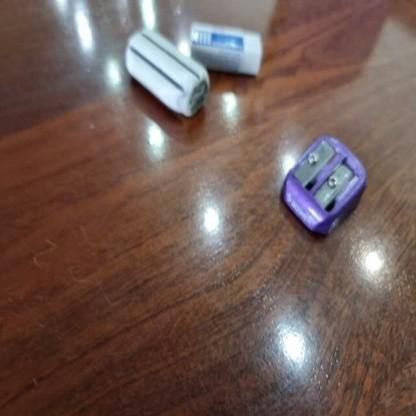not trash: (280, 132, 368, 237), (123, 29, 212, 119), (186, 16, 264, 78)
